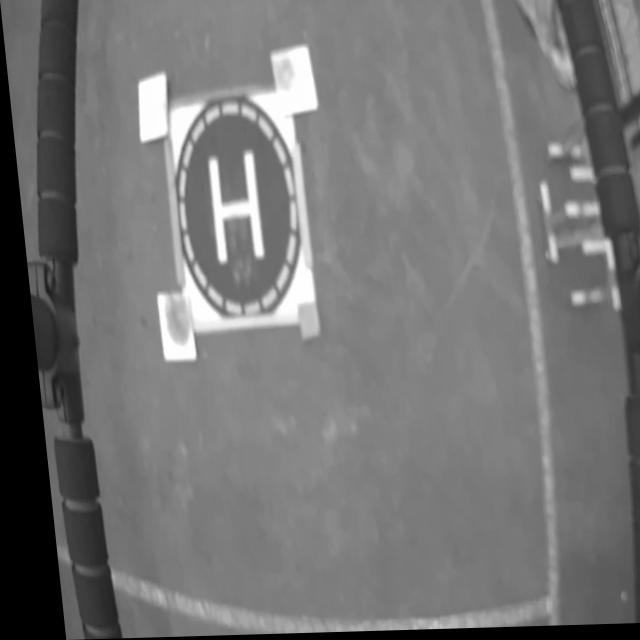Helipad: (205, 152, 259, 266)
